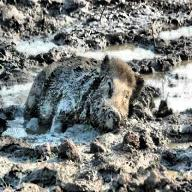boar: (16, 41, 138, 154)
